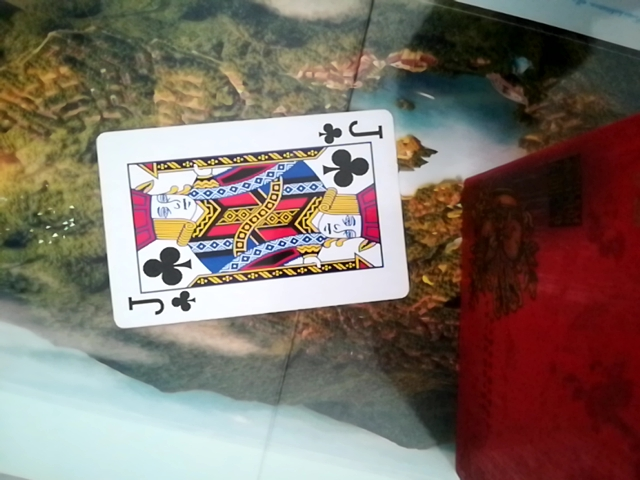mh j: (88, 103, 412, 325)
